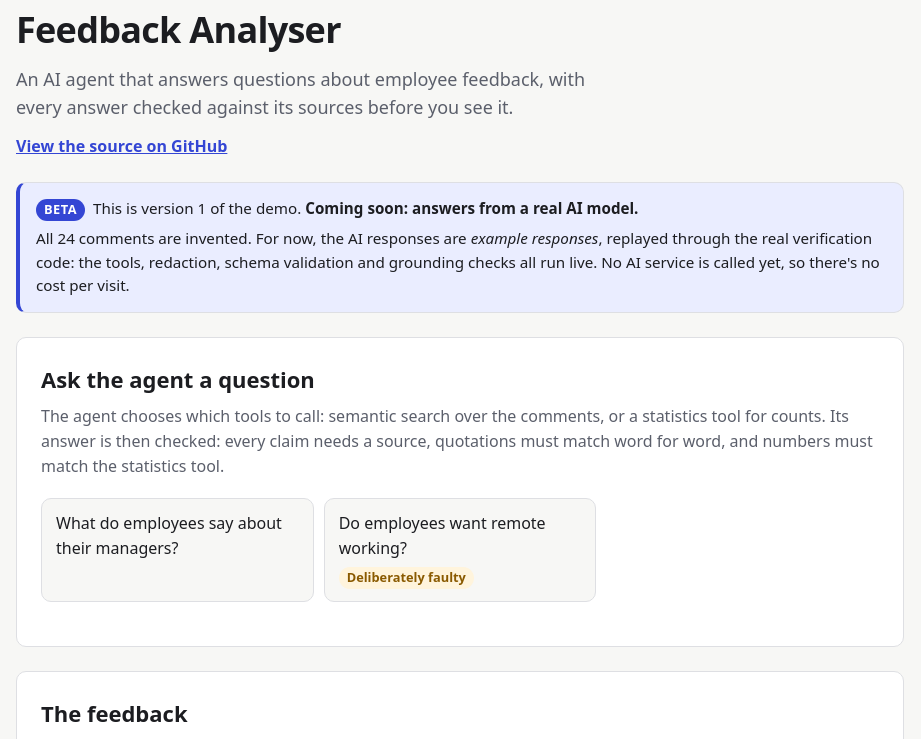
Scenario: App › shows the API's error message when a question fails
Click the button "What do employees say about their managers?".
click(177, 550)  # box [41,498,314,602]
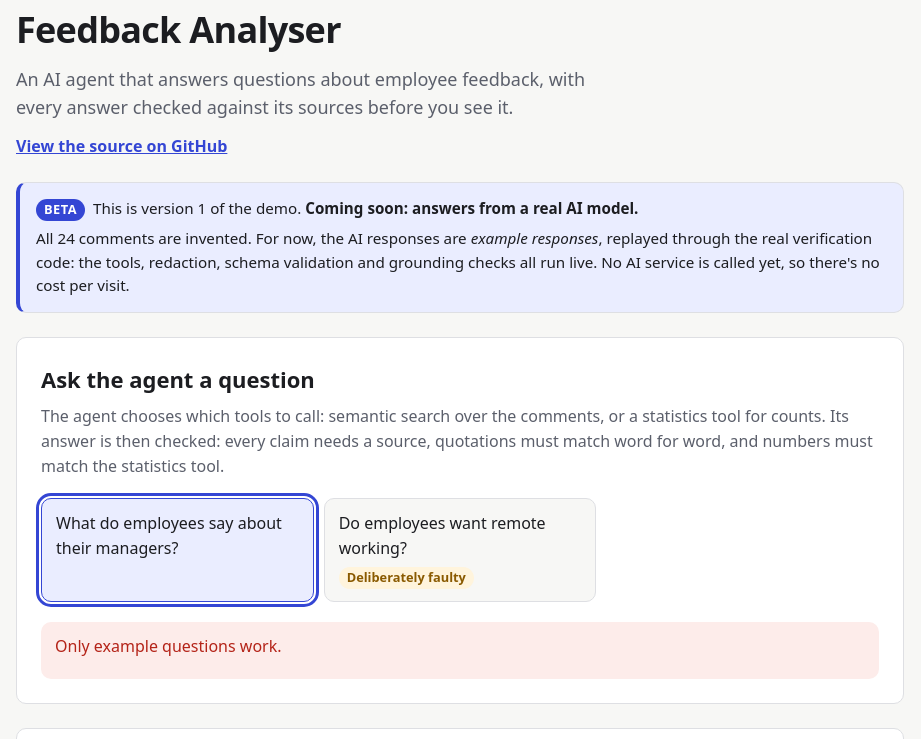
Expected: the message reads "Only example questions work.", [55,635,282,657]
